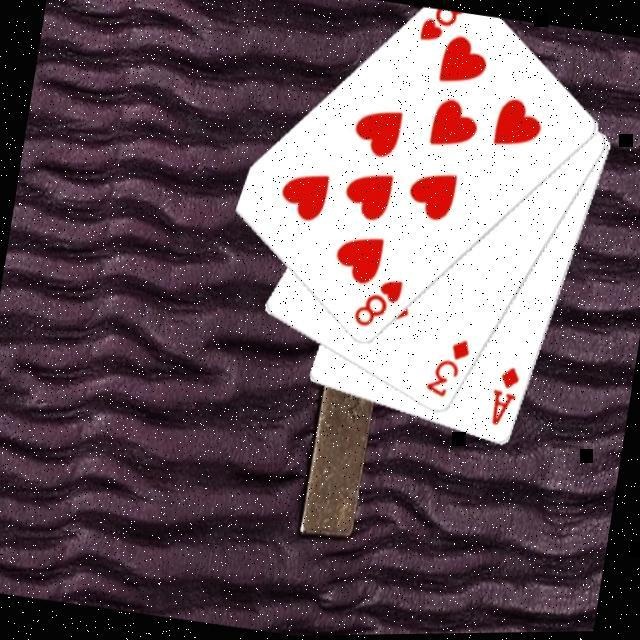3D: (423, 332, 477, 404)
8H: (351, 270, 408, 335), (418, 7, 473, 50)
AD: (486, 361, 526, 431)
